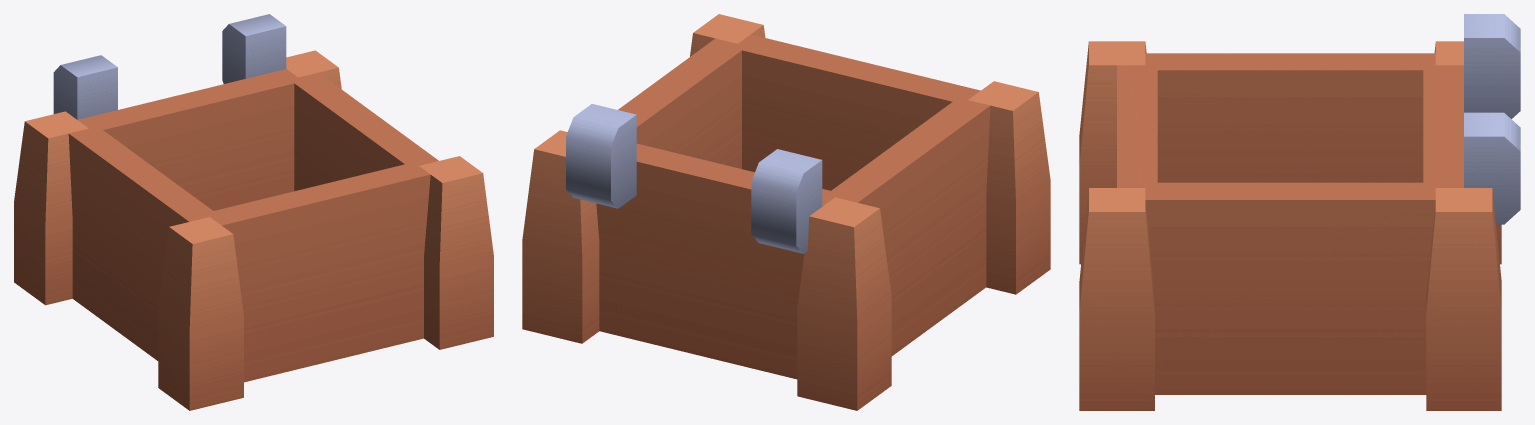
Rendered from chest_lev3.glb.
3 renders of one model, left to right at view 1: azimuth 30°, elevation 25°; view 2: azimuth 150°, elevation 25°; view 3: azimuth 270°, elevation 25°, orthographic. The views are drawn at different scales.
Visible parts, largest first — view 1: chest_lev3; view 2: chest_lev3; view 3: chest_lev3.
Part boxes in pixels (x1=…): chest_lev3: x1=14, y1=14, x2=493, y2=410; chest_lev3: x1=522, y1=14, x2=1050, y2=410; chest_lev3: x1=1079, y1=14, x2=1520, y2=410.
Size of the model in its own units: 2.23 by 1.44 by 2.33.
1 material, 1 textured.
